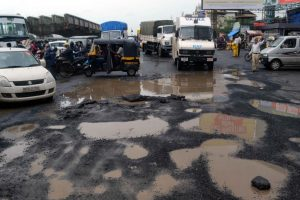pothole: (83, 58, 243, 102), (187, 148, 294, 197), (80, 71, 235, 98), (177, 111, 275, 141), (76, 111, 174, 139), (35, 154, 83, 198), (246, 88, 299, 121), (1, 112, 38, 138)
